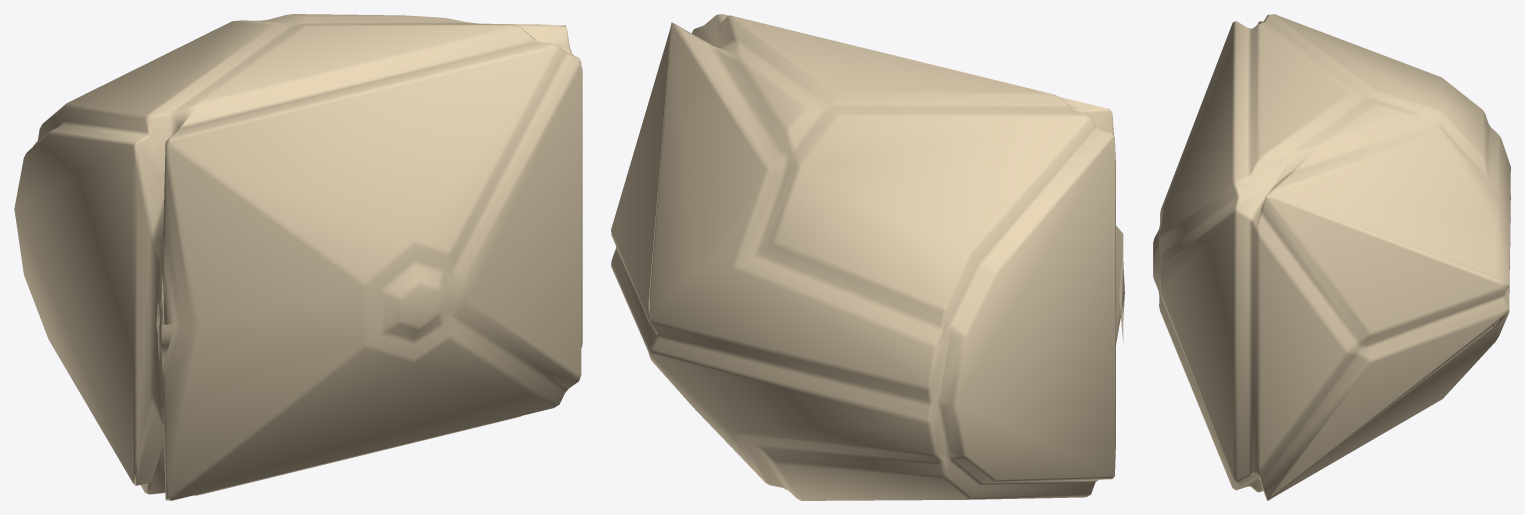
The model's file is pod_scout_tidemark.glb.
The picture shows the model from 3 angles, left to right: view 1: azimuth 30°, elevation 25°; view 2: azimuth 150°, elevation 25°; view 3: azimuth 270°, elevation 25°; orthographic projection. The views are drawn at different scales.
Visible parts, largest first — view 1: pod_scout_tidemark; view 2: pod_scout_tidemark; view 3: pod_scout_tidemark.
Part boxes in pixels (x1,y1,x2,y2): pod_scout_tidemark: (14,14,582,500); pod_scout_tidemark: (611,14,1124,500); pod_scout_tidemark: (1153,14,1510,500).
Bounding box in the file's own units: 2.99 × 2.5 × 2.42.
